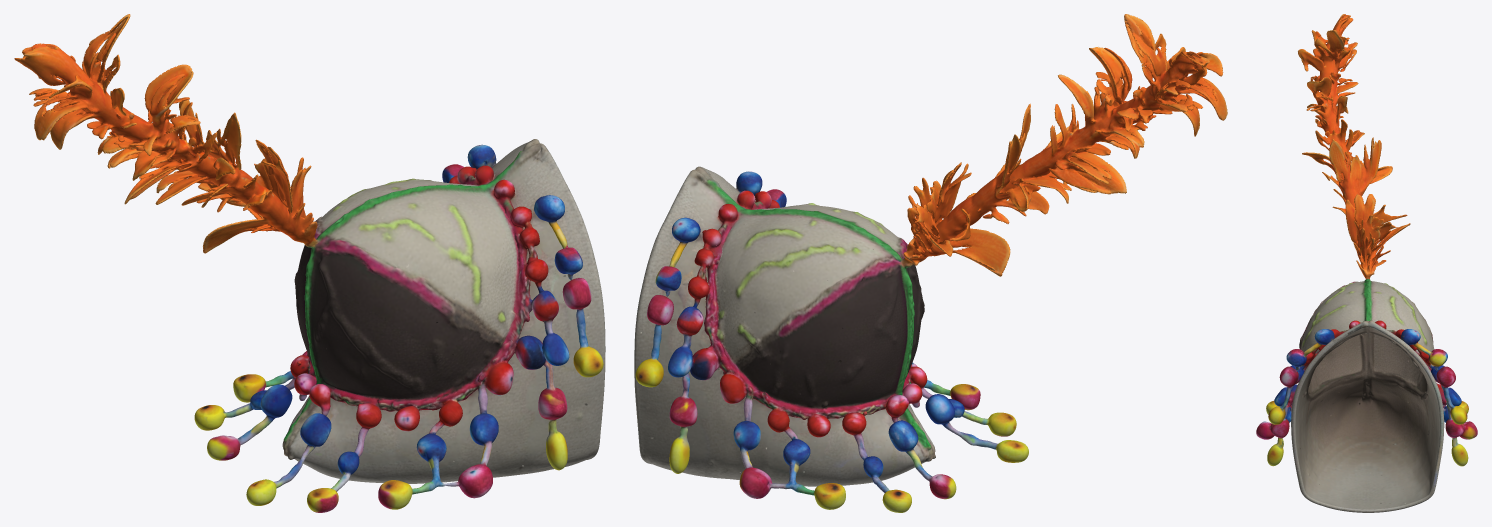
File: montera.glb
3 views of the same model, side by side, from view 1: azimuth 30°, elevation 25°; view 2: azimuth 150°, elevation 25°; view 3: azimuth 270°, elevation 25° (orthographic). The views are drawn at different scales.
Parts seen in each view (by area): view 1: tripo_node_42f46645-8731-40ff-be18-580e2adb8aab; view 2: tripo_node_42f46645-8731-40ff-be18-580e2adb8aab; view 3: tripo_node_42f46645-8731-40ff-be18-580e2adb8aab.
Part boxes in pixels (bbox=[...]): tripo_node_42f46645-8731-40ff-be18-580e2adb8aab: bbox=[14, 14, 605, 512]; tripo_node_42f46645-8731-40ff-be18-580e2adb8aab: bbox=[634, 14, 1227, 512]; tripo_node_42f46645-8731-40ff-be18-580e2adb8aab: bbox=[1256, 14, 1477, 512].
Bounding box in the file's own units: 1 × 0.9772 × 0.5633.
1 material, 1 textured.
